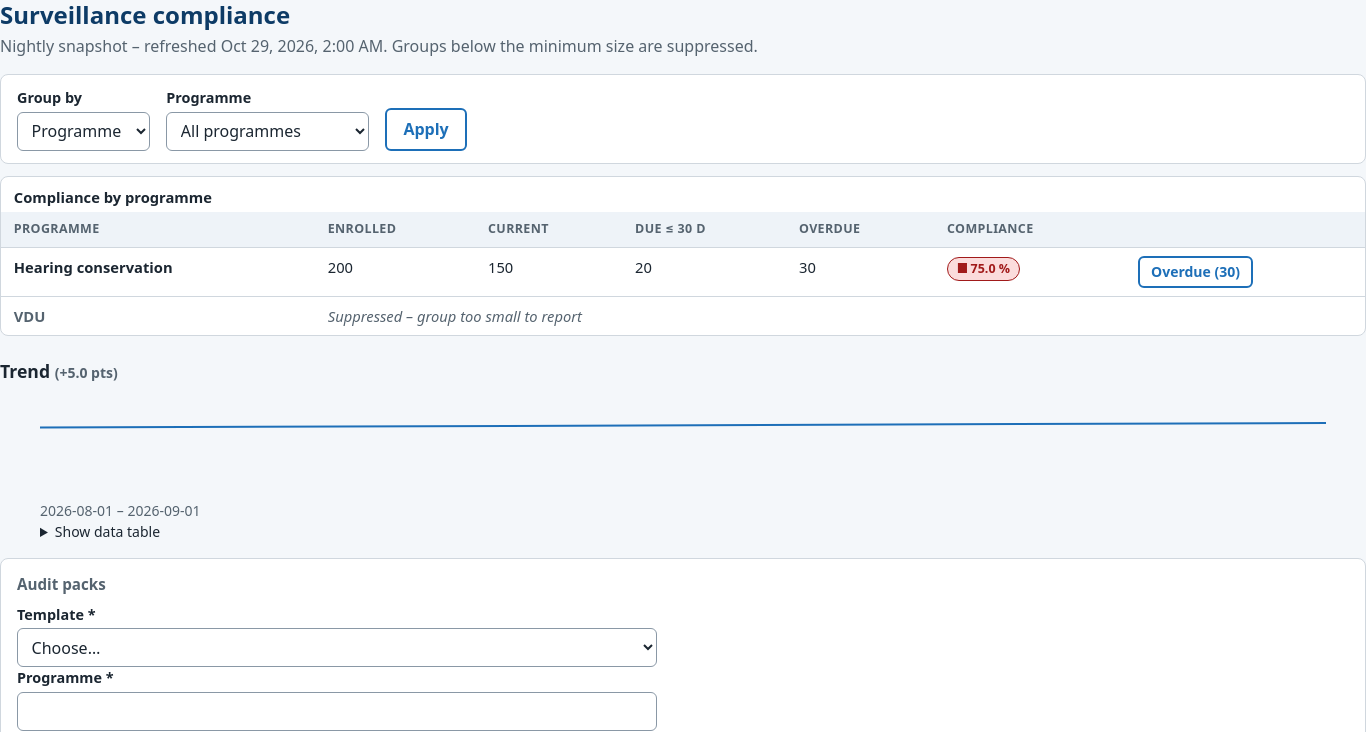
Test case: ComplianceScreen › Nursing Head drills down to overdue people
Click the button with aria-label "Show overdue for Hearing conservation": [1196, 272] box [1138,256,1253,288]
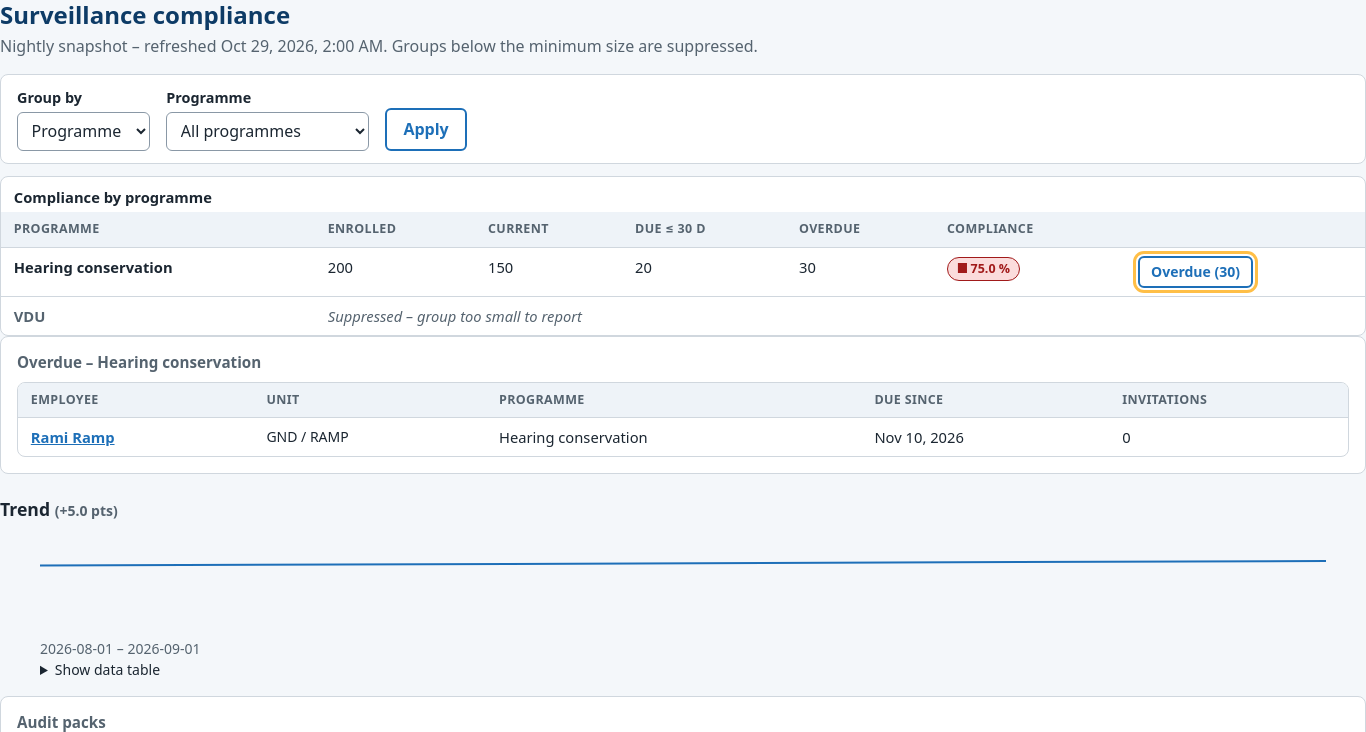
Expected: the link "Rami Ramp" is shown, [31,427,115,447]
